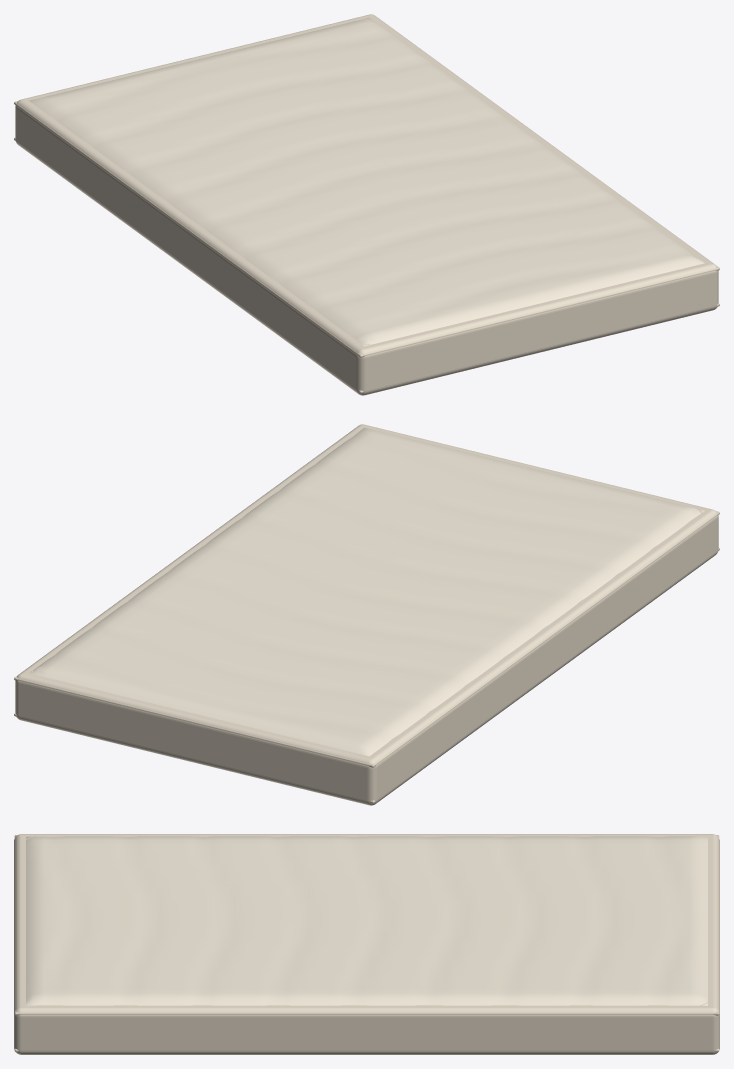
File: mattress-y17b02-v1.glb
3 views of the same model, one above another, from view 1: azimuth 30°, elevation 25°; view 2: azimuth 150°, elevation 25°; view 3: azimuth 270°, elevation 25° (orthographic).
Parts seen in each view (by area): view 1: Single quilted mattress surface, Single mattress border, Upper single mattress welt; view 2: Single quilted mattress surface, Single mattress border, Upper single mattress welt; view 3: Single quilted mattress surface, Single mattress border, Upper single mattress welt.
Boxes of the visible parts, x1,y1,x2,y2 form: Single quilted mattress surface: [29, 17, 704, 346]; Single mattress border: [15, 14, 718, 395]; Upper single mattress welt: [14, 101, 719, 357]; Single quilted mattress surface: [29, 427, 704, 756]; Single mattress border: [15, 424, 718, 805]; Upper single mattress welt: [14, 511, 719, 767]; Single quilted mattress surface: [26, 836, 707, 1005]; Single mattress border: [14, 834, 719, 1054]; Upper single mattress welt: [14, 835, 719, 1015].
Size of the model in its own units: 1.2 by 0.16 by 2.
